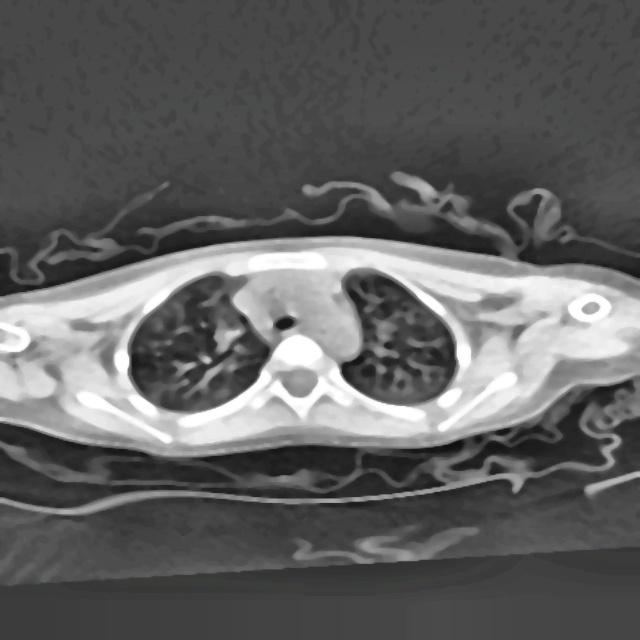covid: (0, 233, 639, 459)
